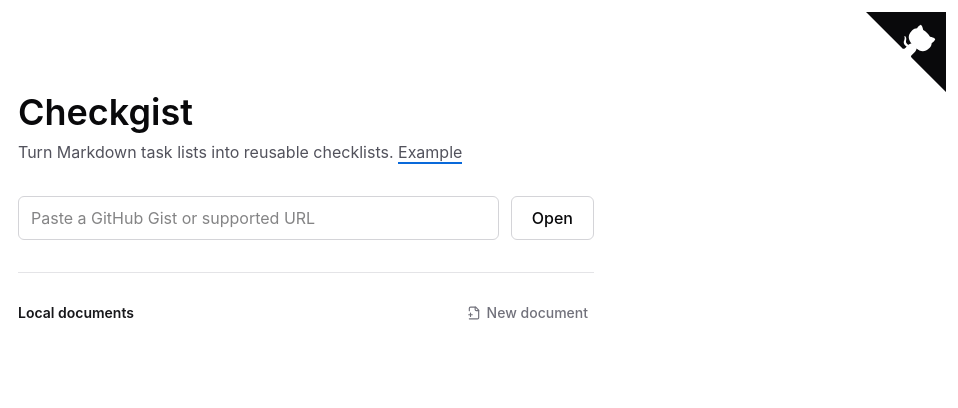
HomePage › shows an inline error for unsupported input
The width and height of the screenshot is (958, 408).
Type "HdpnureE" into the field with placeholder "Paste a GitHub Gist or supported URL".
click(258, 218); type("HdpnureE")  # box [18,196,499,240]
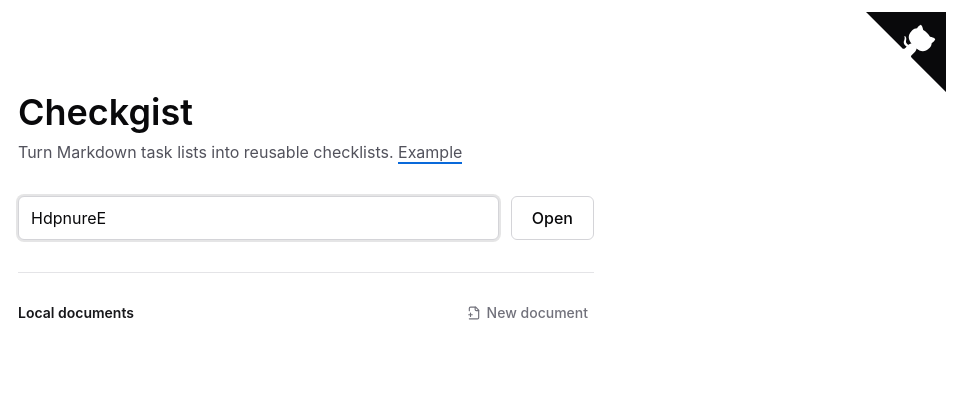
Submit the form, box [18,196,594,240]
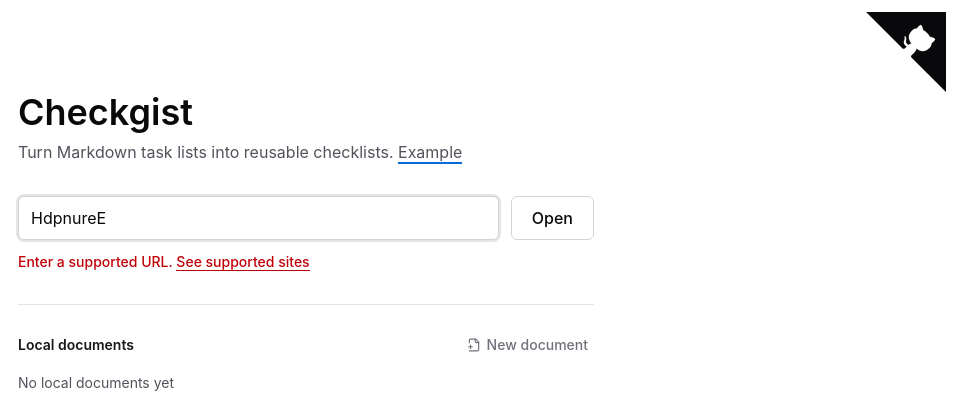
Result: the text "Enter a supported URL" is shown at [18,253,176,270]
Result: the link "See supported sites" is shown at [176,253,310,271]
